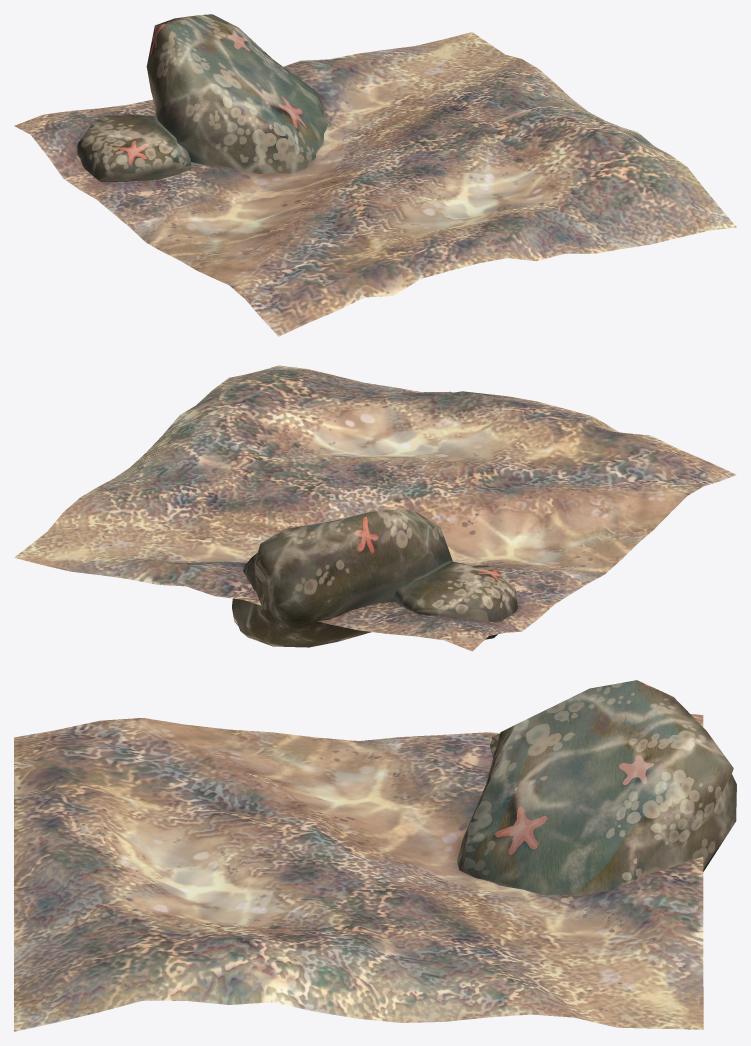
The model's file is ocean_floor_scene.glb.
The picture shows the model from 3 angles, top to bottom: view 1: azimuth 30°, elevation 25°; view 2: azimuth 150°, elevation 25°; view 3: azimuth 270°, elevation 25°; orthographic projection. The views are drawn at different scales.
Parts seen in each view (by area): view 1: Ground_low_6, LargeRock_low_4, SmallRock_low_2; view 2: Ground_low_6, LargeRock_low_4, SmallRock_low_2; view 3: Ground_low_6, LargeRock_low_4.
Part boxes in pixels (box(x1,y1,x2,y2)): Ground_low_6: box(14, 32, 736, 336); LargeRock_low_4: box(146, 14, 328, 173); SmallRock_low_2: box(77, 114, 191, 181); Ground_low_6: box(14, 365, 736, 651); LargeRock_low_4: box(232, 509, 452, 647); SmallRock_low_2: box(394, 561, 517, 639); Ground_low_6: box(14, 714, 703, 1031); LargeRock_low_4: box(457, 680, 736, 896).
Bounding box in the file's own units: 12.17 × 4.29 × 12.76.
2 materials, 2 textured.
